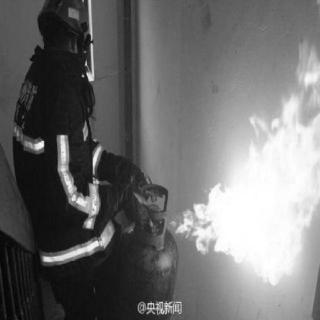Fire: (162, 39, 320, 285)
other: (51, 111, 113, 230), (32, 226, 122, 270), (5, 68, 47, 156), (36, 0, 92, 61)
